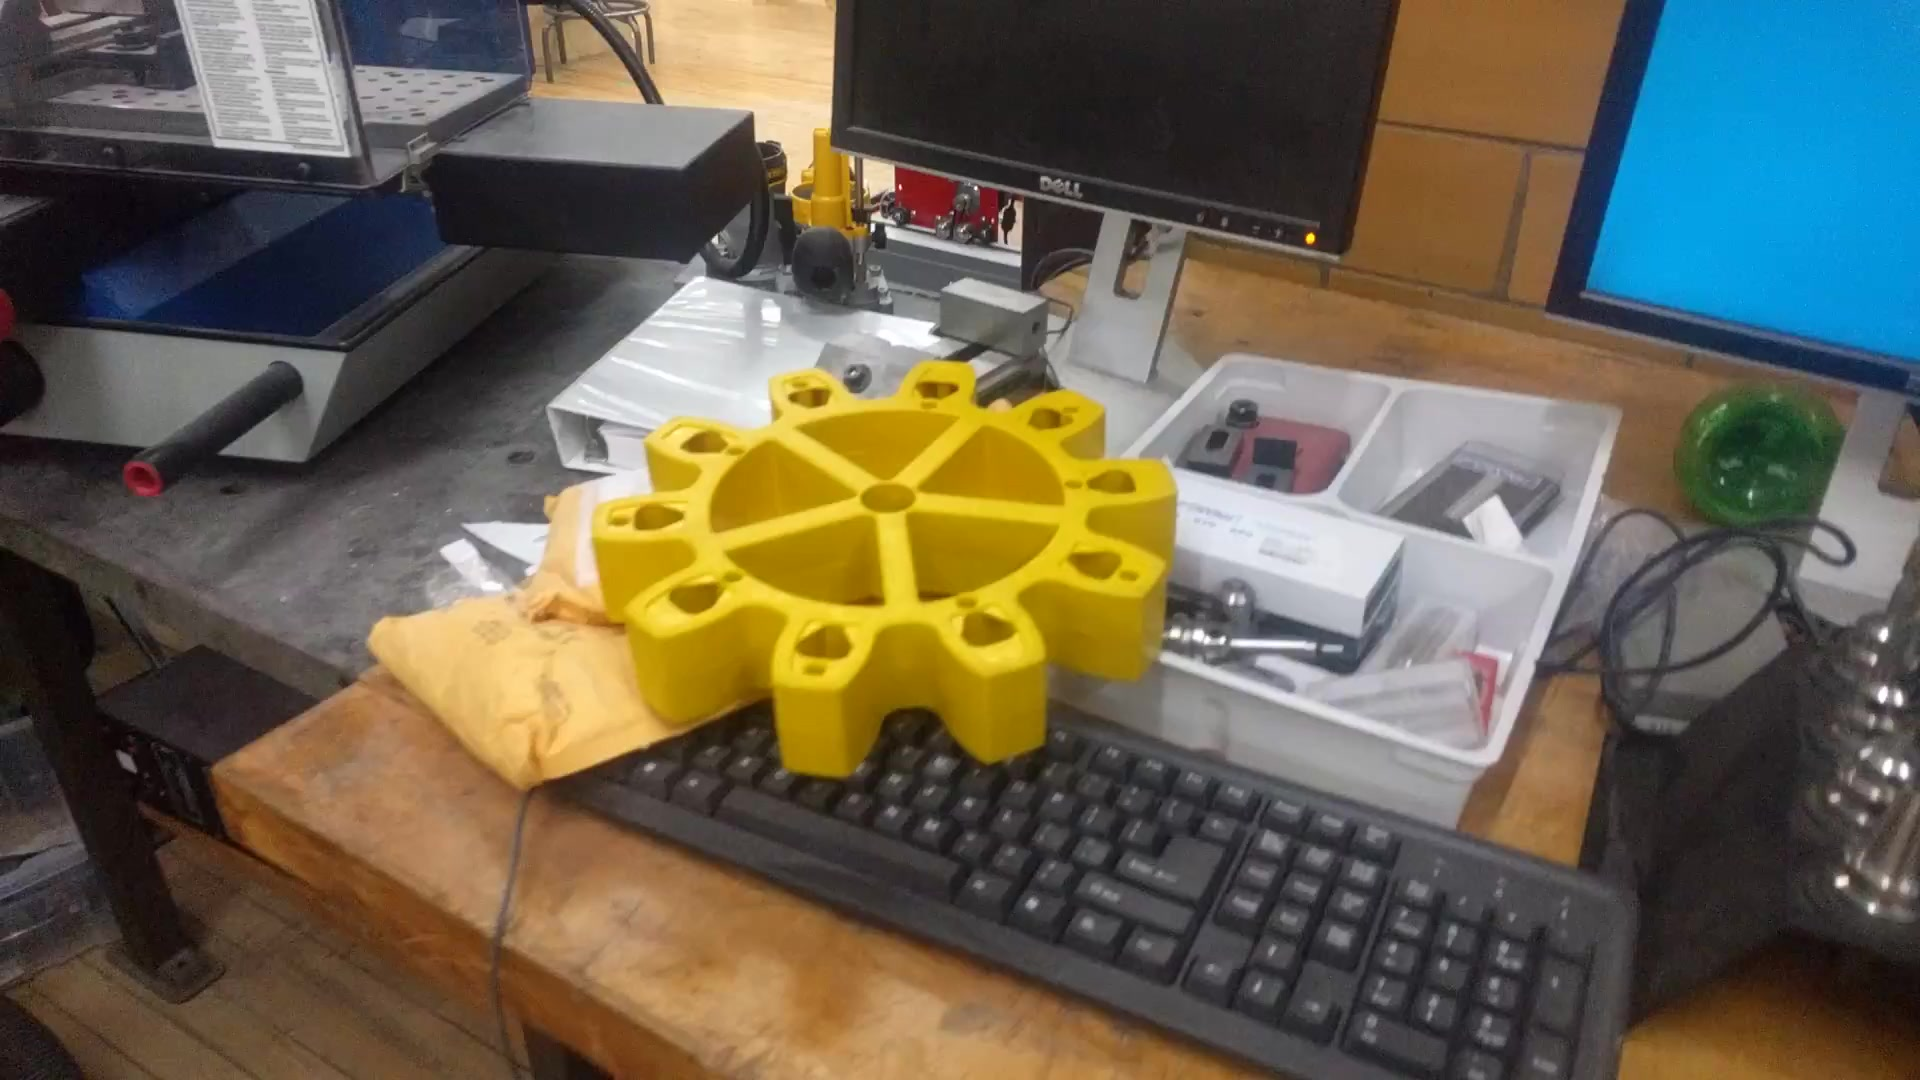gear: (613, 345, 1205, 799)
